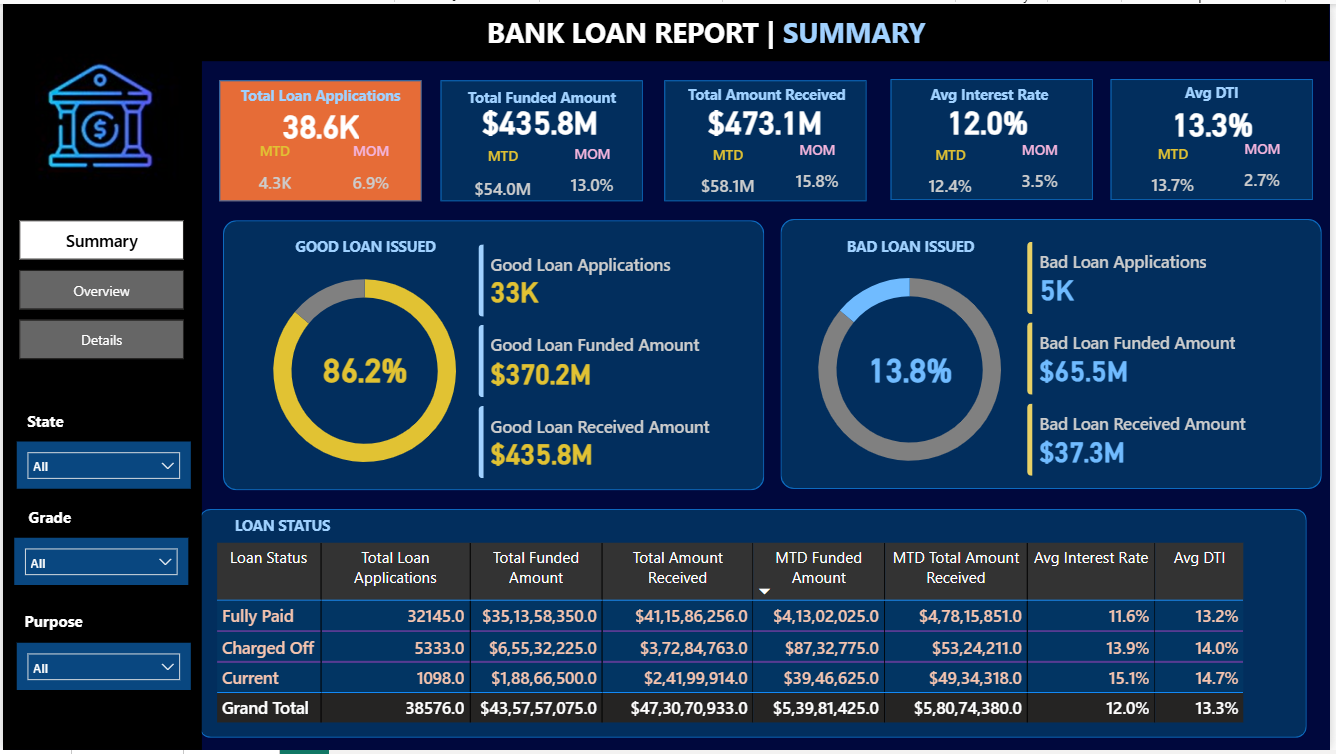

Layout of this report page (visuals, bound fields, positions):
{"tool":"powerbi","page":{"name":"Summary","canvas":[1280,720],"ordinal":0},"visuals":[{"type":"shape","box":[750.4,207.5,522.4,260.6],"z":0},{"type":"donutChart","fields":{"Category":["Bank_loan_data.Good v Bad Loan"],"Y":["Bank_loan_data.Total Loan Applications"]},"box":[750.4,237.7,249.7,230.4],"z":1000},{"type":"shape","box":[0,0,1280,55.5],"z":2000},{"type":"shape","box":[0,47.1,191.8,673.2],"z":3000},{"type":"textbox","box":[462.1,3.6,447.6,47.1],"z":4000},{"type":"cardVisual","fields":{"Data":["Bank_loan_data.Total Funded Amount"]},"box":[433.3,74.8,170.1,77.2],"z":4000,"group":"g3"},{"type":"cardVisual","fields":{"Data":["Bank_loan_data.Total Amount Received"]},"box":[649.4,75.1,170.1,77.2],"z":4000,"group":"g2"},{"type":"cardVisual","fields":{"Data":["Bank_loan_data.Avg Interest Rate"]},"box":[864.5,75.1,170.1,77.2],"z":4000,"group":"g5"},{"type":"cardVisual","fields":{"Data":["Bank_loan_data.Avg DTI"]},"box":[1082,77.2,170.1,77.2],"z":4000,"group":"g4"},{"type":"cardVisual","fields":{"Data":["Bank_loan_data.Total Loan Applications"]},"box":[224.4,83.3,165.3,70],"z":4000,"group":"g1"},{"type":"textbox","box":[1068.9,71.2,195.4,36.2],"z":5000,"group":"g4"},{"type":"textbox","box":[638.8,72.4,195.4,36.2],"z":5000,"group":"g2"},{"type":"textbox","box":[853.9,72.4,195.4,36.2],"z":5000,"group":"g5"},{"type":"textbox","box":[208.7,73.6,195.4,36.2],"z":5000,"group":"g1"},{"type":"shape","box":[208.7,73.6,195.4,117],"z":5000},{"type":"textbox","box":[422.3,75.5,195.4,36.2],"z":5000,"group":"g3"},{"type":"textbox","box":[13.3,387.3,55.5,30.2],"z":5000,"group":"g6"},{"type":"textbox","box":[13.3,480.2,63.9,35],"z":5000,"group":"g7"},{"type":"textbox","box":[10.5,579.9,76,36.2],"z":5000,"group":"g8"},{"type":"cardVisual","title":"MTD","fields":{"Data":["Bank_loan_data.MTD Loan Application"]},"box":[218.4,132.7,88.1,57.9],"z":6000,"group":"g1"},{"type":"cardVisual","title":"MTD","fields":{"Data":["Bank_loan_data.MTD Avg DTI"]},"box":[1071.1,134.7,115.8,57.9],"z":6000,"group":"g4"},{"type":"cardVisual","title":"MTD","fields":{"Data":["Bank_loan_data.MTD Total Amount Received"]},"box":[641,135.9,115.8,57.9],"z":6000,"group":"g2"},{"type":"cardVisual","title":"MTD","fields":{"Data":["Bank_loan_data.MTD Avg Int Rate"]},"box":[856.1,135.9,115.8,57.9],"z":6000,"group":"g5"},{"type":"cardVisual","title":"MTD","fields":{"Data":["Bank_loan_data.MTD Funded Amount"]},"box":[424.9,137,115.8,61.5],"z":6000,"group":"g3"},{"type":"shape","box":[189.4,487.4,1068.9,220.8],"z":6000},{"type":"cardVisual","title":"MOM","fields":{"Data":["Bank_loan_data.MOM Avg DTI"]},"box":[1166.6,130.3,97.7,57.9],"z":7000,"group":"g4"},{"type":"cardVisual","title":"MOM","fields":{"Data":["Bank_loan_data.MOM Total Amount Received"]},"box":[736.5,131.5,97.7,57.9],"z":7000,"group":"g2"},{"type":"cardVisual","title":"MOM","fields":{"Data":["Bank_loan_data.MOM Avg Int Rate"]},"box":[951.6,131.5,97.7,57.9],"z":7000,"group":"g5"},{"type":"cardVisual","title":"MOM","fields":{"Data":["Bank_loan_data.MOM Loan Applications"]},"box":[306.4,132.7,97.7,57.9],"z":7000,"group":"g1"},{"type":"cardVisual","title":"MOM","fields":{"Data":["Bank_loan_data.MOM Total Funded Amount"]},"box":[520,134.6,97.7,57.9],"z":7000,"group":"g3"},{"type":"textbox","box":[189.4,488.6,160.5,36.2],"z":7000},{"type":"group","id":"g1","title":"Group 1","box":[208.7,73.6,195.4,117],"z":8000},{"type":"shape","box":[212.3,208.7,522.4,260.6],"z":9000},{"type":"donutChart","fields":{"Category":["Bank_loan_data.Good v Bad Loan"],"Y":["Bank_loan_data.Total Loan Applications"]},"box":[224.4,238.9,249.7,230.4],"z":10000},{"type":"cardVisual","fields":{"Data":["Bank_loan_data.Good Loan %"]},"box":[277.5,322.1,144.8,61.5],"z":11000},{"type":"textbox","box":[778.2,219.6,195.4,36.2],"z":12000},{"type":"shape","box":[638.2,73.6,195.4,117],"z":13000},{"type":"shape","box":[422.3,73.6,195.4,117],"z":14000},{"type":"group","id":"g2","title":"Group 1","box":[638.8,72.4,195.4,121.9],"z":15000},{"type":"group","id":"g3","title":"Group 1","box":[422.3,74.8,195.4,124.3],"z":16000},{"type":"shape","box":[856.6,72.4,195.4,117],"z":17000},{"type":"shape","box":[1068.9,72.4,195.4,117],"z":18000},{"type":"group","id":"g4","title":"Group 1","box":[1068.9,71.2,195.4,121.9],"z":19000},{"type":"group","id":"g5","title":"Group 1","box":[853.9,72.4,195.4,121.9],"z":20000},{"type":"cardVisual","fields":{"Data":["Bank_loan_data.Good Loan Applications","Bank_loan_data.Good Loan Funded Amount","Bank_loan_data.Good Loan Received Amount"]},"box":[447.6,220.8,275.1,249.7],"z":21000},{"type":"textbox","box":[252.1,219.6,195.4,36.2],"z":22000},{"type":"shape","box":[0,47.1,191.8,673.2],"z":23000},{"type":"cardVisual","fields":{"Data":["Bank_loan_data.Bad Loan %"]},"box":[803.5,322.1,144.8,61.5],"z":24000},{"type":"cardVisual","fields":{"Data":["Bank_loan_data.Bad Loan Applications","Bank_loan_data.Bad Loan Funded Amount","Bank_loan_data.Bad Loan Received Amount"]},"box":[977.2,218.4,275.1,249.7],"z":25000},{"type":"tableEx","fields":{"Values":["Bank_loan_data.loan_status","Bank_loan_data.Total Loan Applications","Bank_loan_data.Total Funded Amount","Bank_loan_data.Total Amount Received","Bank_loan_data.MTD Funded Amount","Bank_loan_data.MTD Total Amount Received","Bank_loan_data.Avg Interest Rate","Bank_loan_data.Avg DTI"]},"box":[200.3,515.2,1052,183.4],"z":26000},{"type":"textbox","box":[263,218.4,194.2,37.4],"z":27000},{"type":"textbox","box":[272.7,218.4,174.9,37.4],"z":28000},{"type":"slicer","fields":{"Values":["Bank_loan_data.address_state"]},"box":[13.3,422.3,167.7,45.8],"z":29000},{"type":"group","id":"g6","title":"Group 1","box":[13.3,387.3,55.5,30.2],"z":30000},{"type":"slicer","fields":{"Values":["Bank_loan_data.grade"]},"box":[10.9,515.2,167.7,45.8],"z":31000},{"type":"group","id":"g7","title":"Group 1","box":[13.3,480.2,63.9,35],"z":32000},{"type":"slicer","fields":{"Values":["Bank_loan_data.purpose"]},"box":[13.3,616.5,167.7,45.8],"z":33000},{"type":"group","id":"g8","title":"Group 1","box":[10.5,579.9,76,36.2],"z":34000},{"type":"image","box":[25.3,48.3,155.6,121.9],"z":35000},{"type":"pageNavigator","box":[15.7,208.7,159.3,135.1],"z":36000}]}

Visuals, with their boxes in screenshot pixels (x1, y1, x2, y2), scaled from the page's 1280x720 canvas onto the 1336x754 screenshot:
shape: x1=783, y1=217, x2=1328, y2=490
donutChart - Bank_loan_data.Good v Bad Loan x Bank_loan_data.Total Loan Applications: x1=783, y1=249, x2=1044, y2=490
shape: x1=0, y1=0, x2=1335, y2=58
shape: x1=0, y1=49, x2=200, y2=753
textbox: x1=482, y1=4, x2=949, y2=53
cardVisual - Bank_loan_data.Total Funded Amount: x1=452, y1=78, x2=630, y2=159
cardVisual - Bank_loan_data.Total Amount Received: x1=678, y1=79, x2=855, y2=159
cardVisual - Bank_loan_data.Avg Interest Rate: x1=902, y1=79, x2=1080, y2=159
cardVisual - Bank_loan_data.Avg DTI: x1=1129, y1=81, x2=1307, y2=162
cardVisual - Bank_loan_data.Total Loan Applications: x1=234, y1=87, x2=407, y2=161
textbox: x1=1116, y1=75, x2=1320, y2=112
textbox: x1=667, y1=76, x2=871, y2=114
textbox: x1=891, y1=76, x2=1095, y2=114
textbox: x1=218, y1=77, x2=422, y2=115
shape: x1=218, y1=77, x2=422, y2=200
textbox: x1=441, y1=79, x2=645, y2=117
textbox: x1=14, y1=406, x2=72, y2=437
textbox: x1=14, y1=503, x2=81, y2=540
textbox: x1=11, y1=607, x2=90, y2=645
"MTD" cardVisual: x1=228, y1=139, x2=320, y2=200
"MTD" cardVisual: x1=1118, y1=141, x2=1239, y2=202
"MTD" cardVisual: x1=669, y1=142, x2=790, y2=203
"MTD" cardVisual: x1=894, y1=142, x2=1014, y2=203
"MTD" cardVisual: x1=443, y1=143, x2=564, y2=208
shape: x1=198, y1=510, x2=1313, y2=742
"MOM" cardVisual: x1=1218, y1=136, x2=1320, y2=197
"MOM" cardVisual: x1=769, y1=138, x2=871, y2=198
"MOM" cardVisual: x1=993, y1=138, x2=1095, y2=198
"MOM" cardVisual: x1=320, y1=139, x2=422, y2=200
"MOM" cardVisual: x1=543, y1=141, x2=645, y2=202
textbox: x1=198, y1=512, x2=365, y2=550
"Group 1" group: x1=218, y1=77, x2=422, y2=200
shape: x1=222, y1=219, x2=767, y2=491
donutChart - Bank_loan_data.Good v Bad Loan x Bank_loan_data.Total Loan Applications: x1=234, y1=250, x2=495, y2=491
cardVisual - Bank_loan_data.Good Loan %: x1=290, y1=337, x2=441, y2=402
textbox: x1=812, y1=230, x2=1016, y2=268
shape: x1=666, y1=77, x2=870, y2=200
shape: x1=441, y1=77, x2=645, y2=200
"Group 1" group: x1=667, y1=76, x2=871, y2=203
"Group 1" group: x1=441, y1=78, x2=645, y2=209
shape: x1=894, y1=76, x2=1098, y2=198
shape: x1=1116, y1=76, x2=1320, y2=198
"Group 1" group: x1=1116, y1=75, x2=1320, y2=202
"Group 1" group: x1=891, y1=76, x2=1095, y2=203
cardVisual - Bank_loan_data.Good Loan Applications x Bank_loan_data.Good Loan Funded Amount: x1=467, y1=231, x2=754, y2=493
textbox: x1=263, y1=230, x2=467, y2=268
shape: x1=0, y1=49, x2=200, y2=753
cardVisual - Bank_loan_data.Bad Loan %: x1=839, y1=337, x2=990, y2=402
cardVisual - Bank_loan_data.Bad Loan Applications x Bank_loan_data.Bad Loan Funded Amount: x1=1020, y1=229, x2=1307, y2=490
tableEx - Bank_loan_data.loan_status x Bank_loan_data.Total Loan Applications: x1=209, y1=540, x2=1307, y2=732
textbox: x1=275, y1=229, x2=477, y2=268
textbox: x1=285, y1=229, x2=467, y2=268
slicer - Bank_loan_data.address_state: x1=14, y1=442, x2=189, y2=490
"Group 1" group: x1=14, y1=406, x2=72, y2=437
slicer - Bank_loan_data.grade: x1=11, y1=540, x2=186, y2=587
"Group 1" group: x1=14, y1=503, x2=81, y2=540
slicer - Bank_loan_data.purpose: x1=14, y1=646, x2=189, y2=694
"Group 1" group: x1=11, y1=607, x2=90, y2=645
image: x1=26, y1=51, x2=189, y2=178
pageNavigator: x1=16, y1=219, x2=183, y2=360
